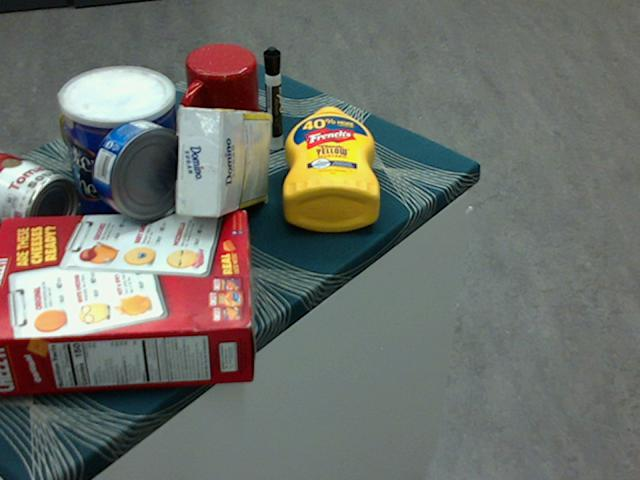cracker_box: (0, 210, 253, 392)
large_marker: (264, 46, 281, 151)
master_chef_can: (59, 67, 182, 247)
mug: (176, 44, 263, 142)
mustard_bottle: (283, 105, 380, 231)
potted_meat_can: (59, 99, 167, 188)
sugar_box: (176, 109, 269, 219)
tomato_soup_can: (0, 147, 77, 241)
tuna_fish_can: (91, 119, 193, 221)
